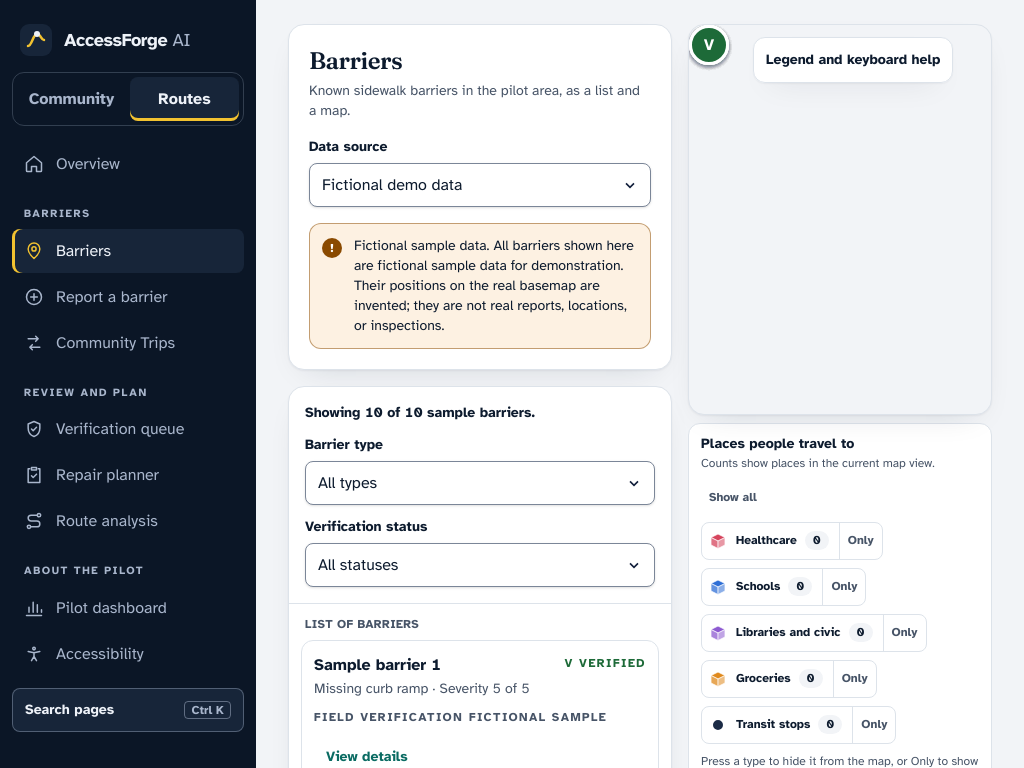
Test: Barriers page › explains when no barriers match the filters
The image size is (1024, 768).
Earlier steps of the test are not shown.
Select "Steep slope" in the dropdown labelled "Barrier type" at {"x": 480, "y": 483}, box [305, 461, 655, 505]
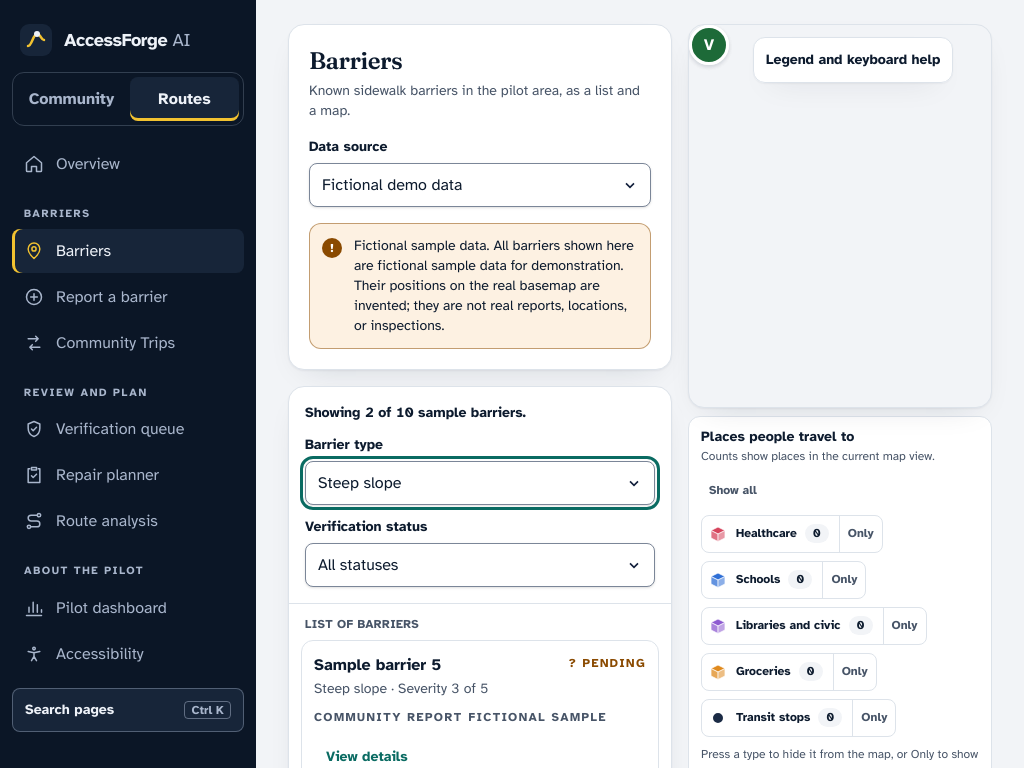
Select "Resolved" in the dropdown labelled "Verification status" at {"x": 480, "y": 565}, box [305, 543, 655, 587]
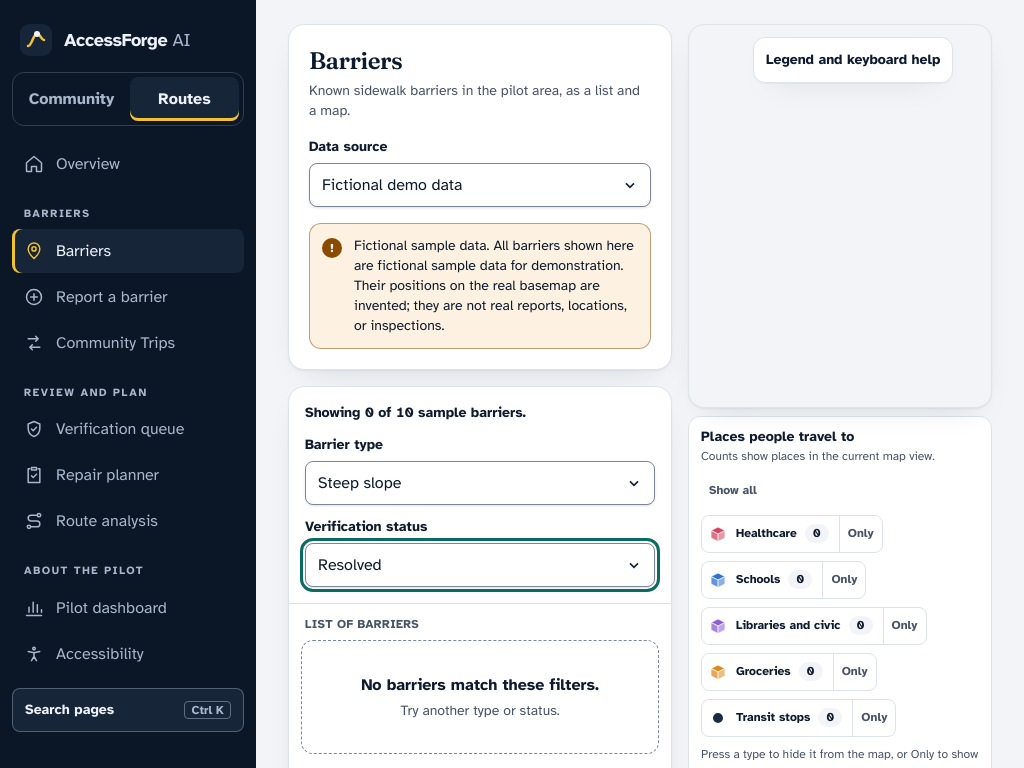
Now the text "No barriers match these filters." is shown, box [361, 675, 599, 695]
